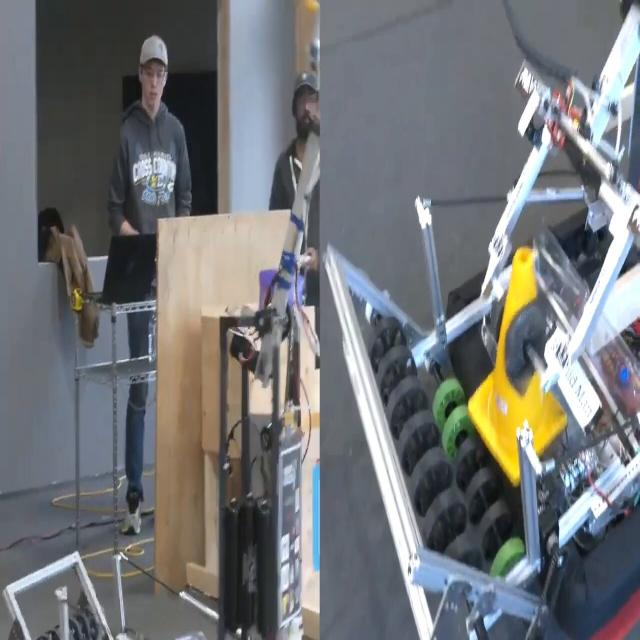frc_cube: (462, 249, 570, 478), (253, 263, 313, 330)
